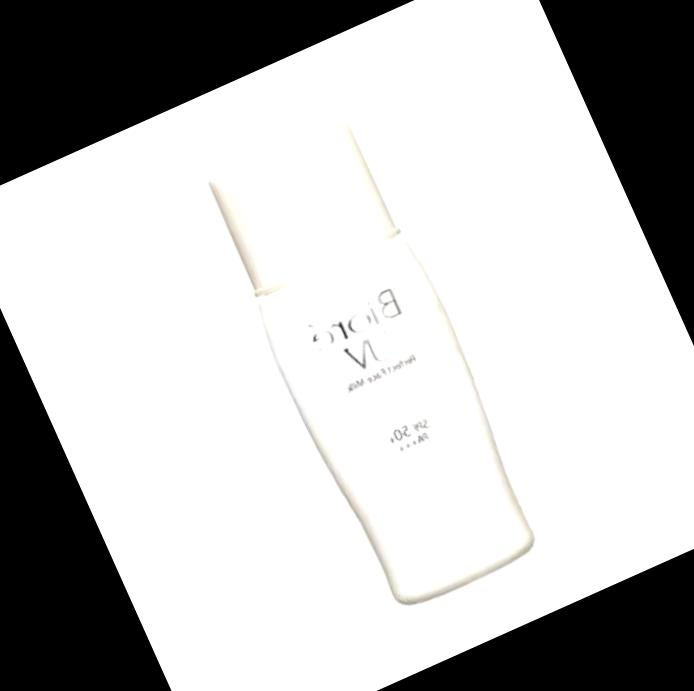cosmetic: (193, 111, 547, 619)
